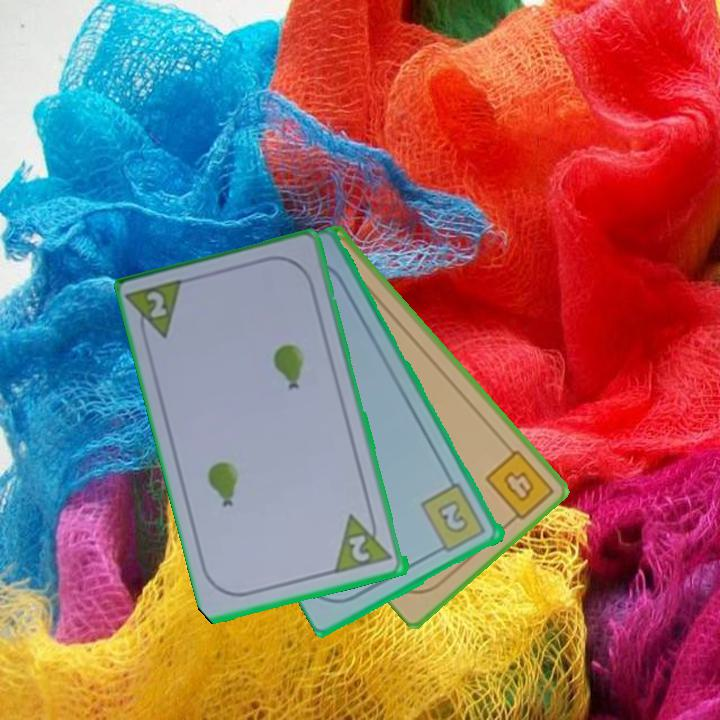2b: (417, 480, 489, 557)
2p: (125, 275, 190, 348), (332, 507, 396, 577)
4b: (482, 446, 556, 528)
